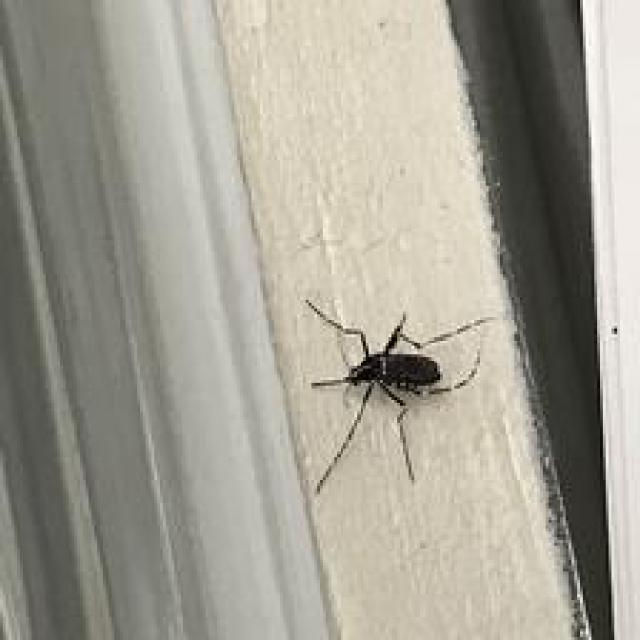Aedes albopictus: (304, 297, 496, 494)
